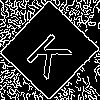K: (24, 25, 81, 81)
